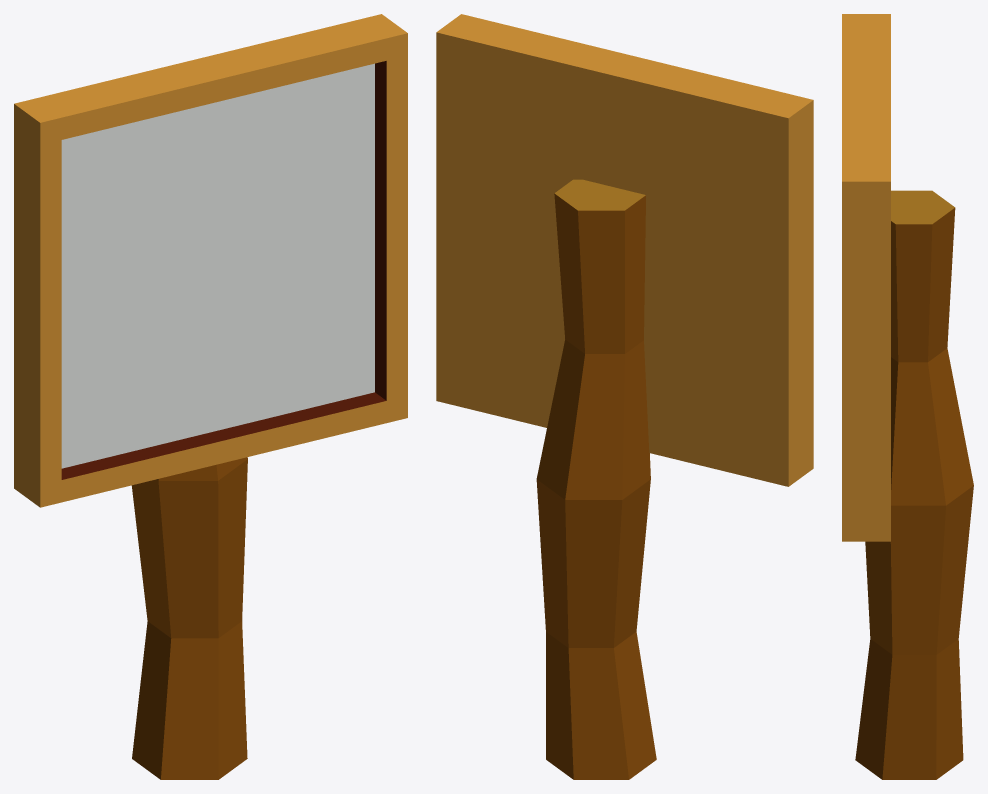
File: sign_1.glb
3 views of the same model, side by side, from view 1: azimuth 30°, elevation 25°; view 2: azimuth 150°, elevation 25°; view 3: azimuth 270°, elevation 25° (orthographic). The views are drawn at different scales.
Parts seen in each view (by area): view 1: sign_1; view 2: sign_1; view 3: sign_1.
Part boxes in pixels (box(x1,y1,x2,y2)): sign_1: box(14, 14, 407, 779); sign_1: box(436, 14, 813, 779); sign_1: box(842, 14, 973, 779).
Bounding box in the file's own units: 2 × 3.68 × 0.6648.
1 material, 1 textured.
